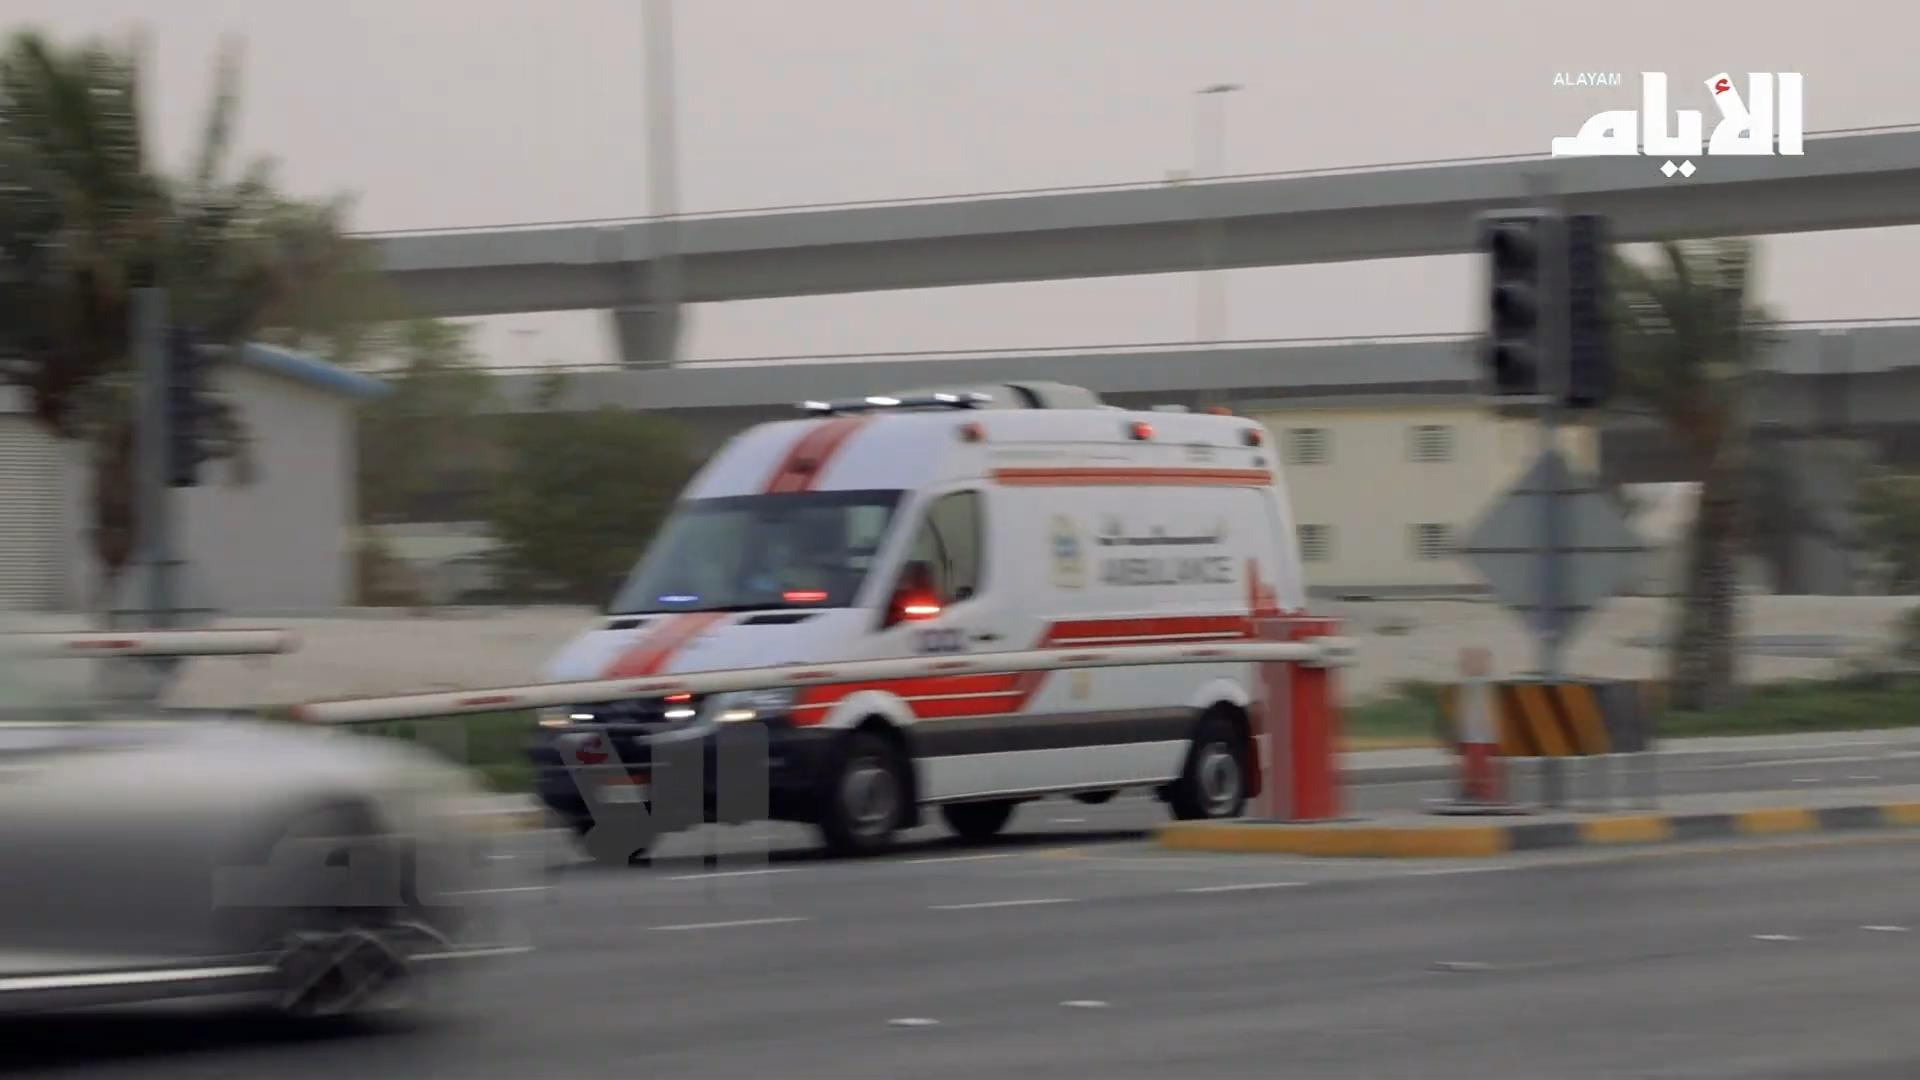ambulance_on: (530, 380, 1308, 853)
